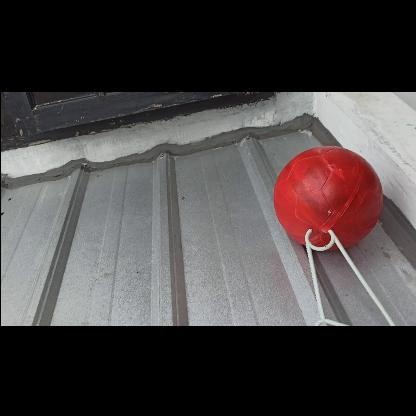red_ball: (272, 145, 382, 254)
